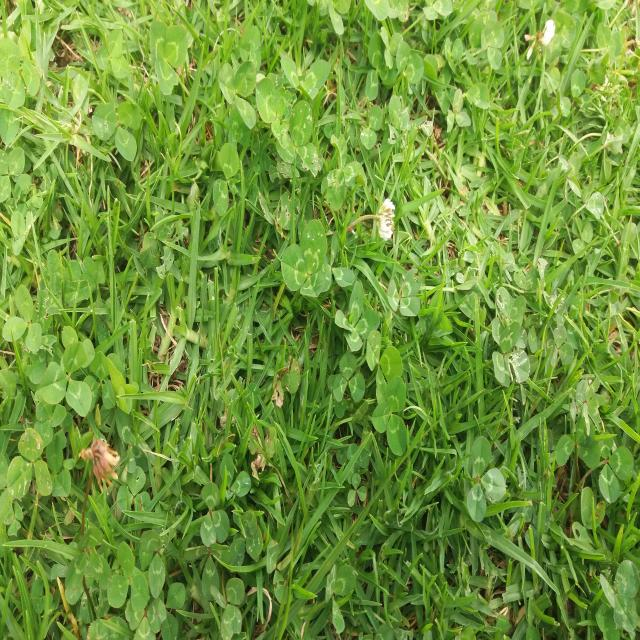Four Leaf Clover: (334, 280, 380, 352)
